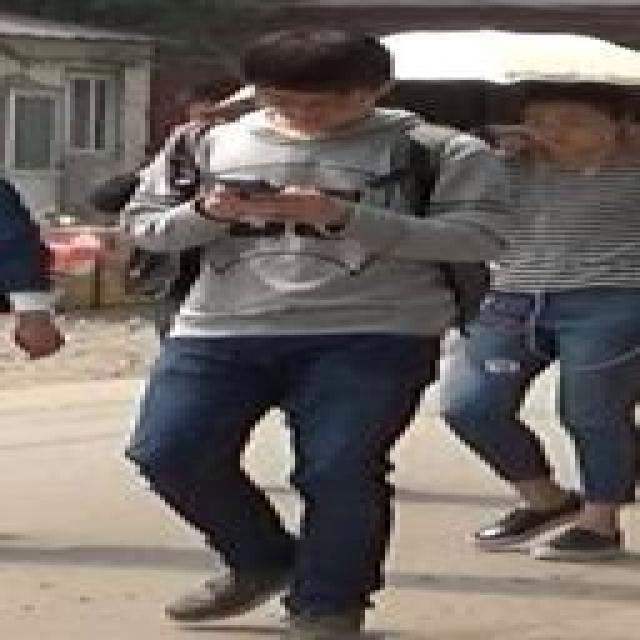adult: (94, 26, 513, 628), (460, 100, 640, 565)
